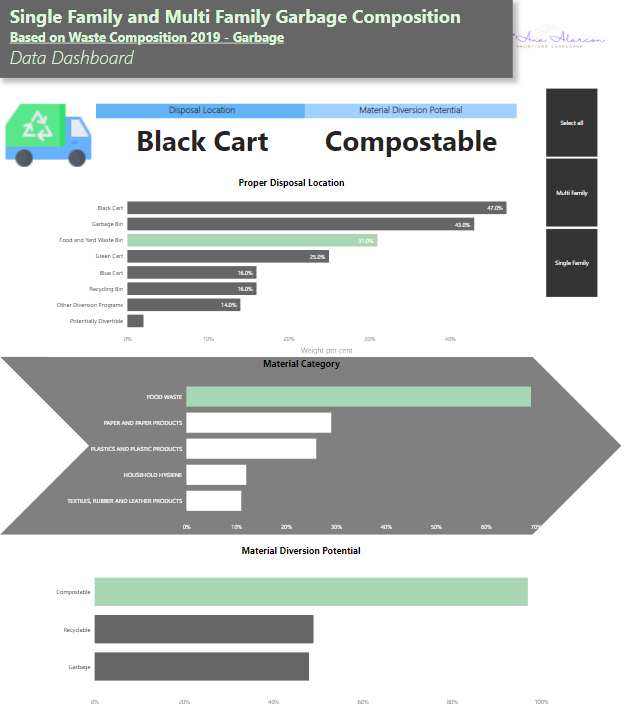

The dashboard page shown, as its layout file describes it:
{"tool":"powerbi","page":{"name":"Page 1","canvas":[1280,1500],"ordinal":0},"visuals":[{"type":"card","fields":{"Values":["single_and_multi_family.proper_disposal_location"]},"box":[190,223.3,434.4,111.1],"z":0},{"type":"slicer","fields":{"Values":["single_and_multi_family.sector_category"]},"box":[1098.3,174.9,156.6,443.4],"z":1000},{"type":"card","fields":{"Values":["single_and_multi_family.material_diversion_potential"]},"box":[620,223.3,435.6,120],"z":2000},{"type":"image","box":[0,52.2,198.9,452.2],"z":3000},{"type":"clusteredBarChart","title":"Material Category","fields":{"Category":["single_and_multi_family.material_category Hierarchy.material_category","single_and_multi_family.material_category Hierarchy.material_subcategory"],"Y":["single_and_multi_family.weight"]},"box":[107.8,750,975.6,298.9],"z":4000},{"type":"clusteredBarChart","title":"Material Diversion Potential","fields":{"Category":["single_and_multi_family.material_diversion_potential"],"Y":["single_and_multi_family.weight"]},"box":[122.2,1160,975.6,264.4],"z":6000},{"type":"clusteredBarChart","title":"Proper Disposal Location","fields":{"Category":["single_and_multi_family.proper_disposal_location"],"Y":["single_and_multi_family.weight"]},"box":[117.3,416,955.7,296.5],"z":7000},{"type":"image","box":[1014.4,0,241.1,160],"z":8000},{"type":"textbox","box":[0,0,1056,160],"z":8500}]}

Visuals, with their boxes on the page's 1280x1500 design canvas (x1, y1, x2, y2). These are canvas units, not pixel positions in the 624x728 screenshot, which may show the page scaled, cropped or inside an application window:
card - single_and_multi_family.proper_disposal_location: [190,223,624,334]
slicer - single_and_multi_family.sector_category: [1098,175,1255,618]
card - single_and_multi_family.material_diversion_potential: [620,223,1056,343]
image: [0,52,199,504]
"Material Category" clusteredBarChart: [108,750,1083,1049]
"Material Diversion Potential" clusteredBarChart: [122,1160,1098,1424]
"Proper Disposal Location" clusteredBarChart: [117,416,1073,712]
image: [1014,0,1256,160]
textbox: [0,0,1056,160]
